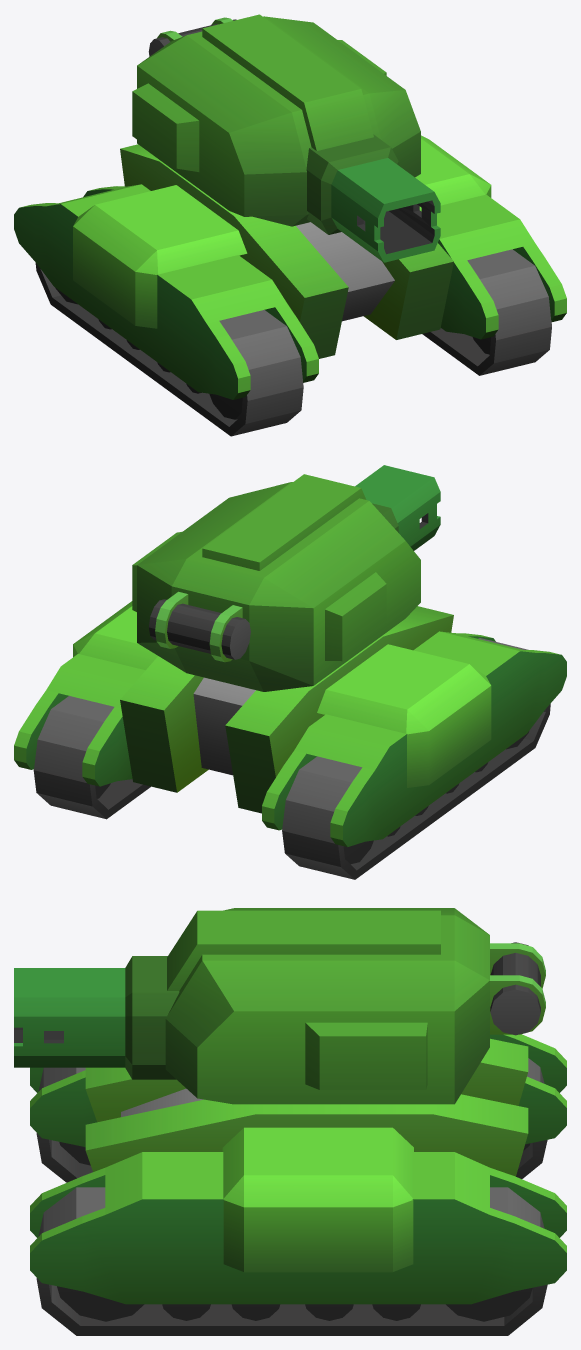
File: Tank.fbx
3 renders of one model, top to bottom at view 1: azimuth 30°, elevation 25°; view 2: azimuth 150°, elevation 25°; view 3: azimuth 270°, elevation 25°, orthographic. The views are drawn at different scales.
Parts seen in each view (by area): view 1: Rail, Turret; view 2: Rail, Turret; view 3: Rail, Turret.
Part boxes in pixels (x1,y1,x2,y2): Rail: (14,135,566,436); Turret: (132,14,440,262); Rail: (14,601,566,879); Turret: (132,465,440,691); Rail: (30,1034,566,1335); Turret: (14,908,545,1104).
Size of the model in its own units: 0.017 by 0.0122 by 0.0191.
